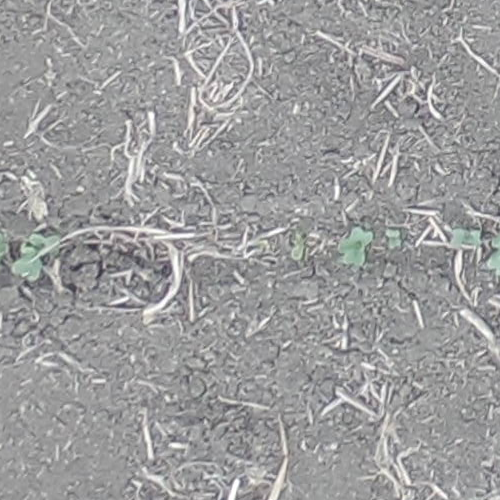clumped: (488, 218, 499, 278)
isolated: (12, 233, 58, 278), (337, 226, 374, 267), (448, 226, 484, 246), (288, 229, 307, 262), (385, 225, 407, 253), (0, 223, 8, 266)
